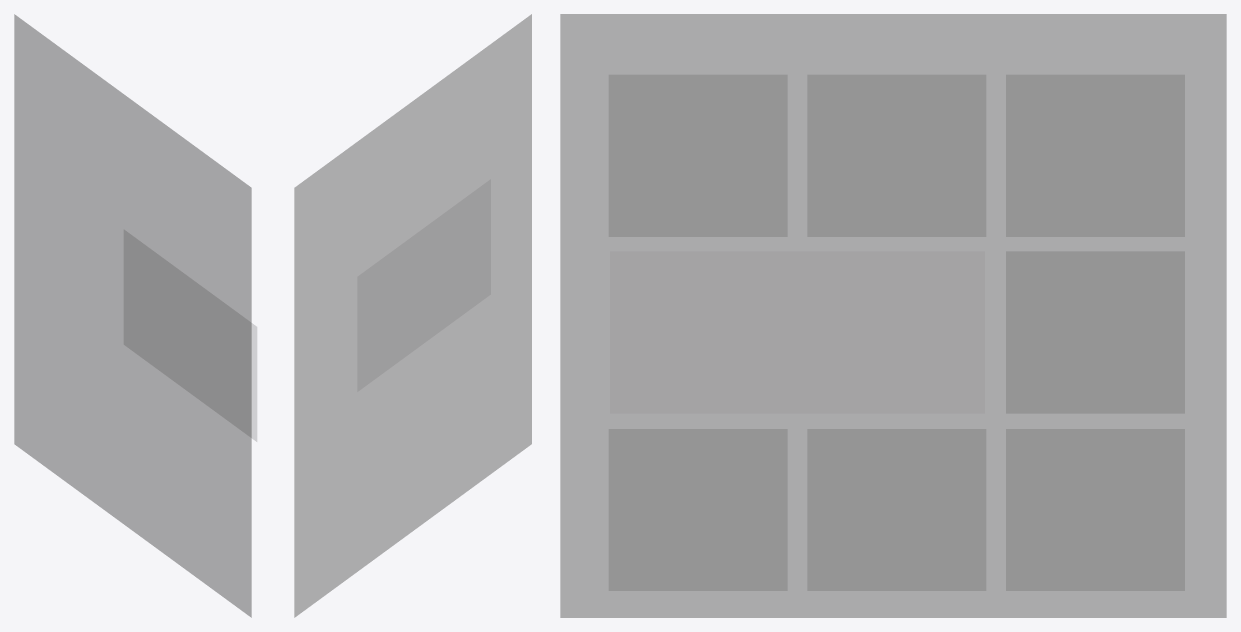
The model's file is btn_rent2x1.gltf.
3 renders of one model, left to right at view 1: azimuth 30°, elevation 25°; view 2: azimuth 150°, elevation 25°; view 3: azimuth 270°, elevation 25°, orthographic. The views are drawn at different scales.
Visible parts, largest first — view 1: 2x1_bg01, 22LandTile.001; view 2: 2x1_bg01, 22LandTile.001; view 3: 2x1_bg01, 22LandTile.001, 11LandTile.001, 12LandTile.001, 13LandTile.001, 23LandTile.001, 31LandTile.001, 32LandTile.001, 33LandTile.001.
Part boxes in pixels (box(x1,y1,x2,y2)): 2x1_bg01: box(14, 14, 251, 617); 22LandTile.001: box(124, 230, 256, 441); 2x1_bg01: box(294, 14, 531, 617); 22LandTile.001: box(358, 180, 490, 390); 2x1_bg01: box(560, 14, 1226, 617); 22LandTile.001: box(610, 251, 984, 413); 11LandTile.001: box(608, 74, 787, 236); 12LandTile.001: box(807, 74, 986, 236); 13LandTile.001: box(1006, 74, 1184, 236); 23LandTile.001: box(1006, 251, 1184, 413); 31LandTile.001: box(608, 429, 787, 590); 32LandTile.001: box(807, 429, 986, 590); 33LandTile.001: box(1006, 429, 1184, 590).
Size of what is drawn, in the model's own units: 0.0112 by 0.1984 by 0.1984.
Materials: 2 (1 with a texture image).
